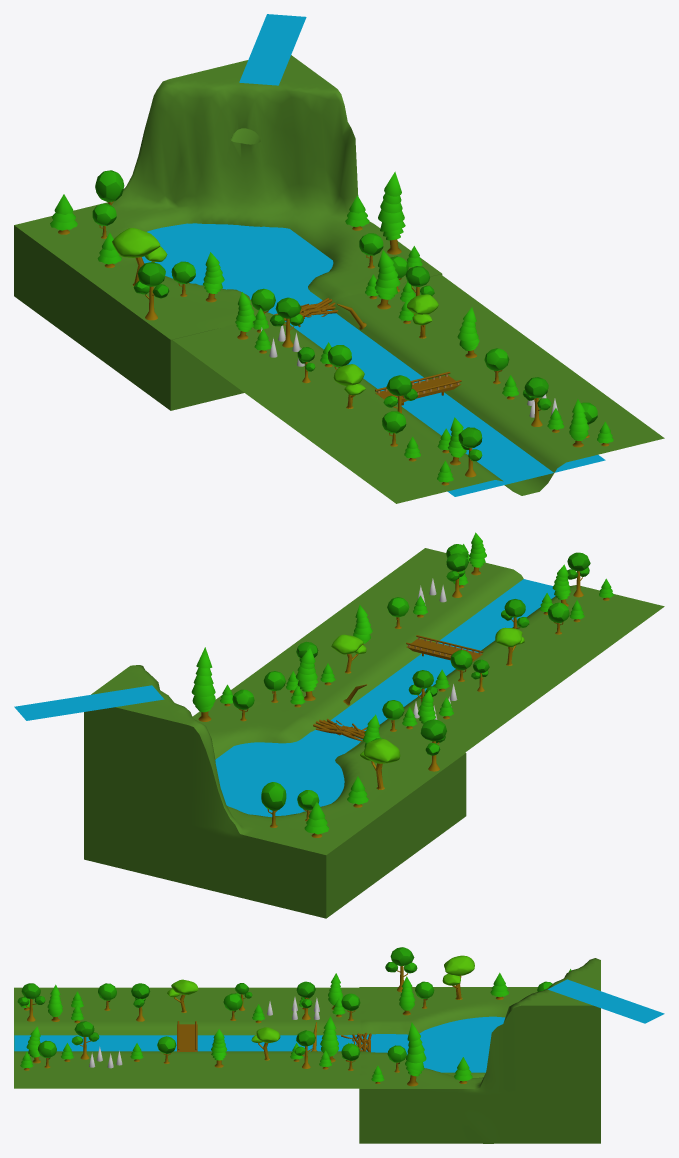
File: BeaverStory.glb
3 views of the same model, one above another, from view 1: azimuth 30°, elevation 25°; view 2: azimuth 150°, elevation 25°; view 3: azimuth 270°, elevation 25° (orthographic). The views are drawn at different scales.
Visible parts, largest first — view 1: pCylinder24; view 2: pCylinder24; view 3: pCylinder24.
Boxes of the visible parts, x1,y1,x2,y2 form: pCylinder24: (14,14,664,503); pCylinder24: (14,532,664,918); pCylinder24: (14,947,664,1143).
Size of the model in its own units: 33.45 by 17.83 by 75.36.
